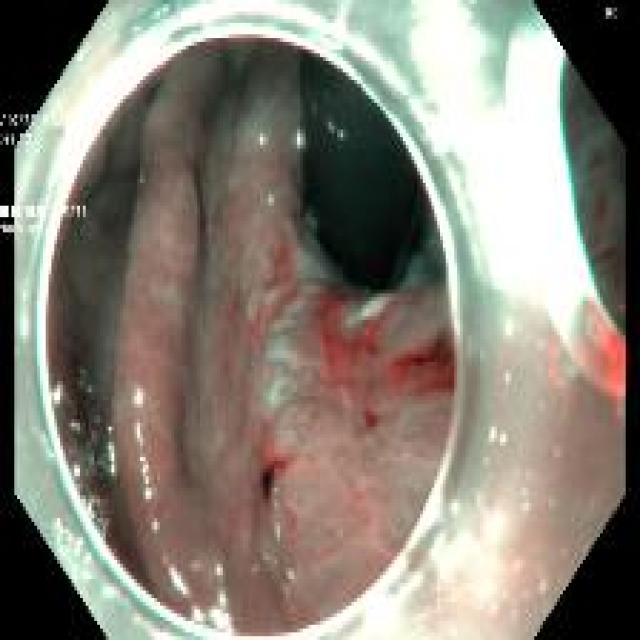blood: (319, 290, 385, 371), (391, 337, 454, 393), (264, 465, 291, 504)
bubbles: (51, 363, 118, 545)
color misalignment: (0, 202, 90, 236), (0, 113, 50, 148), (606, 4, 623, 18)
saturation: (33, 2, 461, 640), (408, 3, 602, 352), (430, 517, 510, 603), (56, 520, 95, 585), (192, 593, 234, 634), (168, 564, 191, 601), (133, 619, 174, 639), (140, 459, 151, 500), (49, 384, 62, 404), (135, 422, 144, 450), (505, 320, 515, 341), (109, 444, 115, 477), (104, 591, 116, 605), (134, 391, 142, 409), (296, 131, 303, 148), (489, 428, 496, 444), (451, 505, 458, 520), (72, 467, 80, 480), (152, 523, 160, 535), (217, 569, 224, 578), (502, 438, 506, 447)
